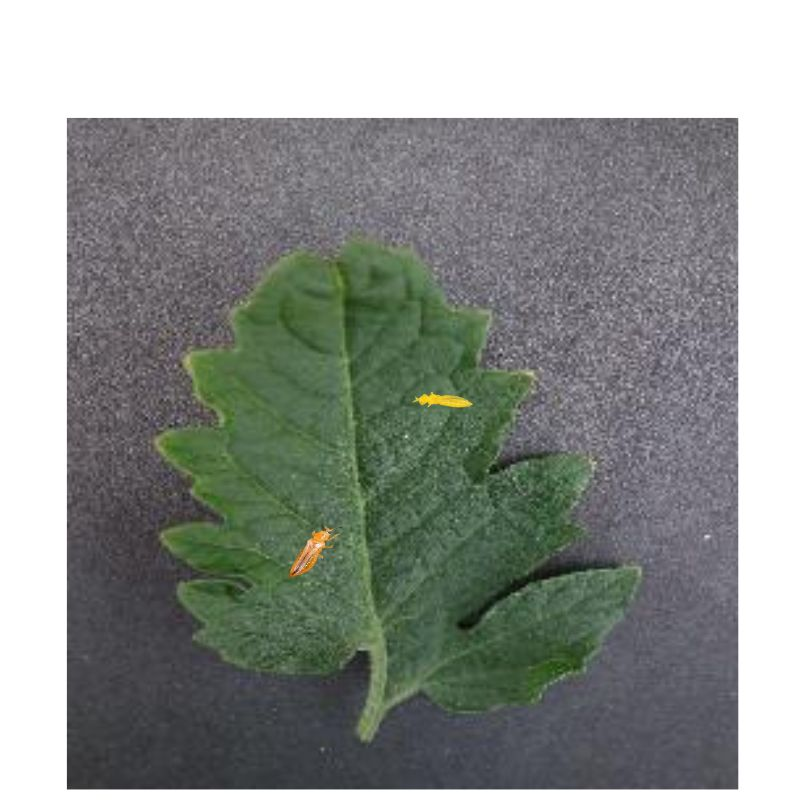thrips: (288, 521, 338, 577), (410, 390, 473, 412)
